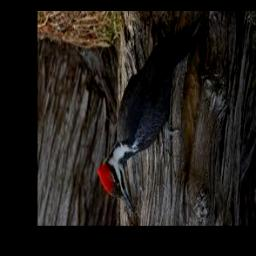Woodpecker: (96, 13, 205, 216)
